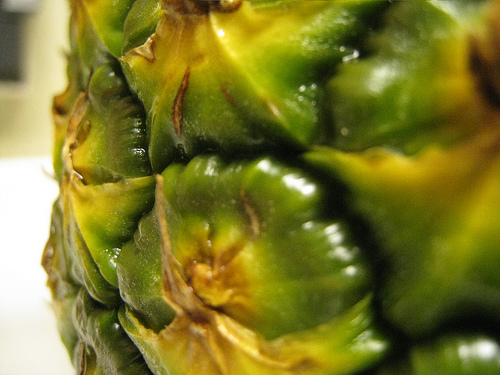pineapple: (40, 0, 499, 374)
